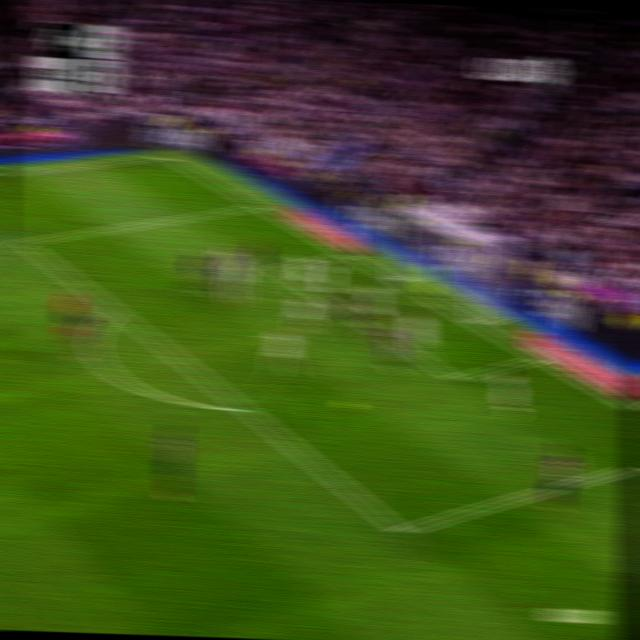bigarea_bottom_inner: (388, 514, 413, 545)
bigarea_top_inner: (12, 230, 34, 252)
bigarea_top_outter: (246, 196, 266, 210)
bottom_arc_area_intersection: (232, 396, 257, 420)
corner: (155, 148, 176, 160)
smallarea_bottom_inner: (443, 367, 464, 388)
smallarea_top_inner: (263, 259, 284, 277)
top_arc_area_intersection: (103, 299, 125, 318)
